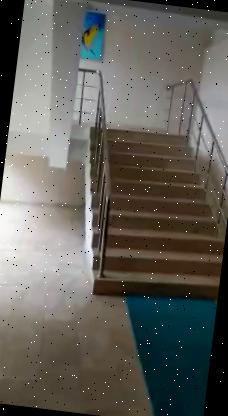stair: (68, 105, 228, 307)
